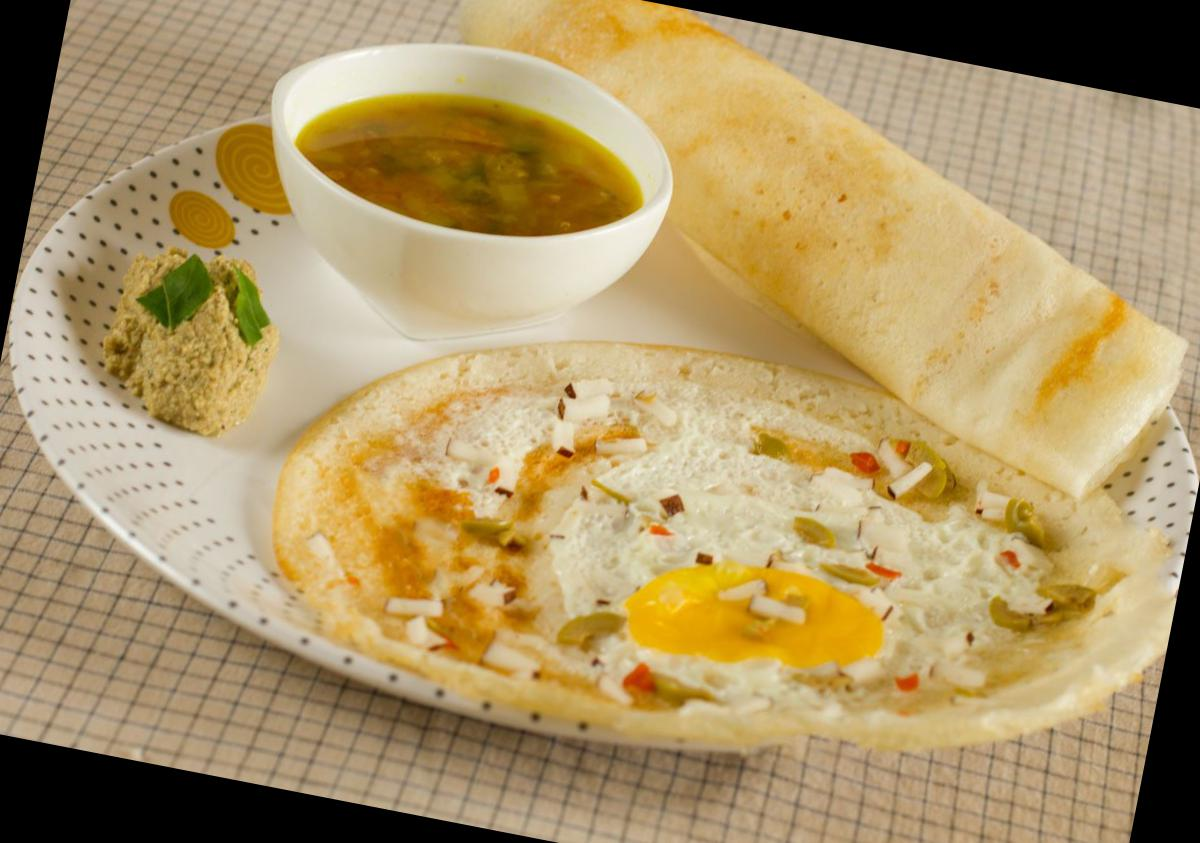dosa: (467, 5, 1190, 485), (277, 339, 1157, 721)
